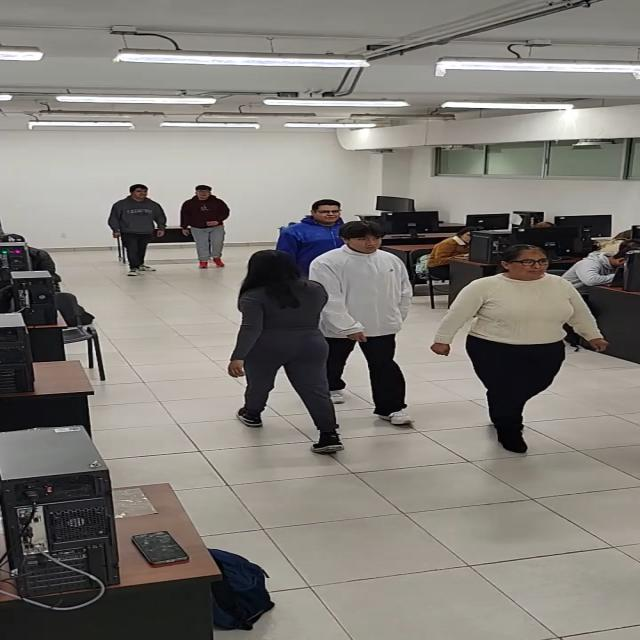Persona: (431, 246, 613, 454), (226, 249, 347, 455), (311, 221, 418, 425), (106, 184, 168, 276), (275, 199, 347, 265), (180, 185, 230, 269)
